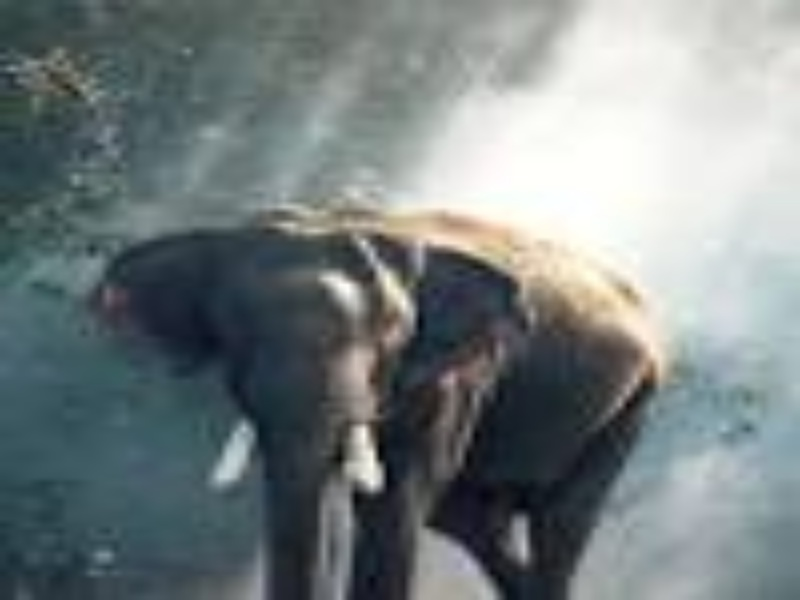elephant: (77, 204, 680, 592)
